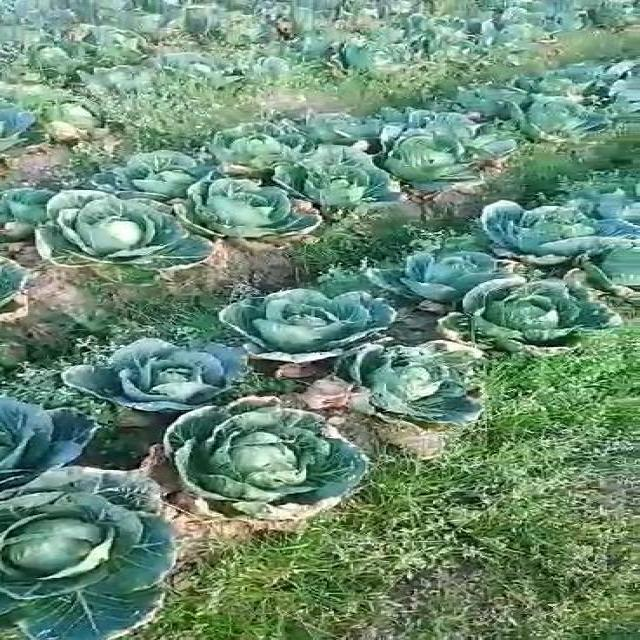Cabbage: (159, 394, 394, 549), (11, 469, 180, 640), (342, 339, 507, 439), (453, 272, 611, 362), (210, 282, 380, 364), (187, 162, 321, 258), (44, 194, 201, 273), (74, 346, 274, 404), (0, 390, 111, 482), (479, 193, 611, 254), (385, 250, 509, 304), (321, 149, 415, 220), (11, 99, 119, 154), (105, 153, 213, 200), (434, 75, 535, 124), (401, 129, 482, 190), (524, 103, 608, 151), (210, 118, 300, 162), (0, 180, 70, 224), (314, 110, 390, 148), (30, 40, 106, 77), (343, 39, 415, 76), (81, 28, 149, 56)
